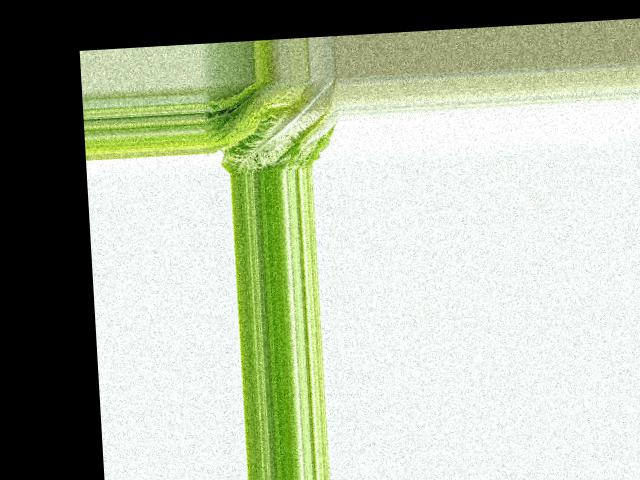lettuce: (200, 77, 342, 174)
